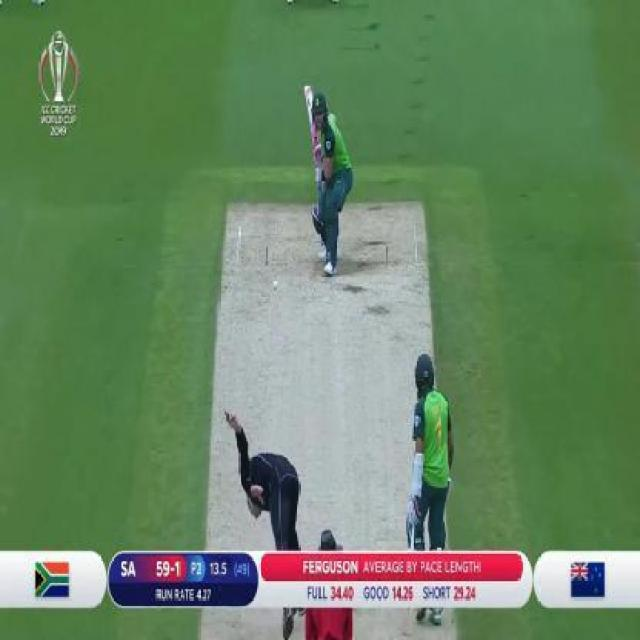Cricket ball: (271, 278, 280, 291)
